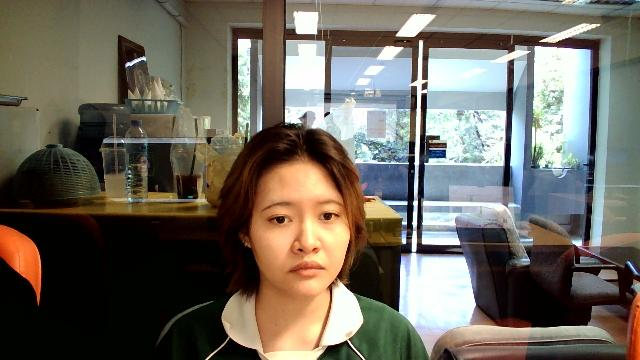fokus: (248, 161, 349, 298)
